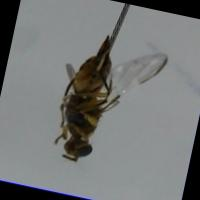Oriental-fruit-fly: (24, 1, 171, 186)
